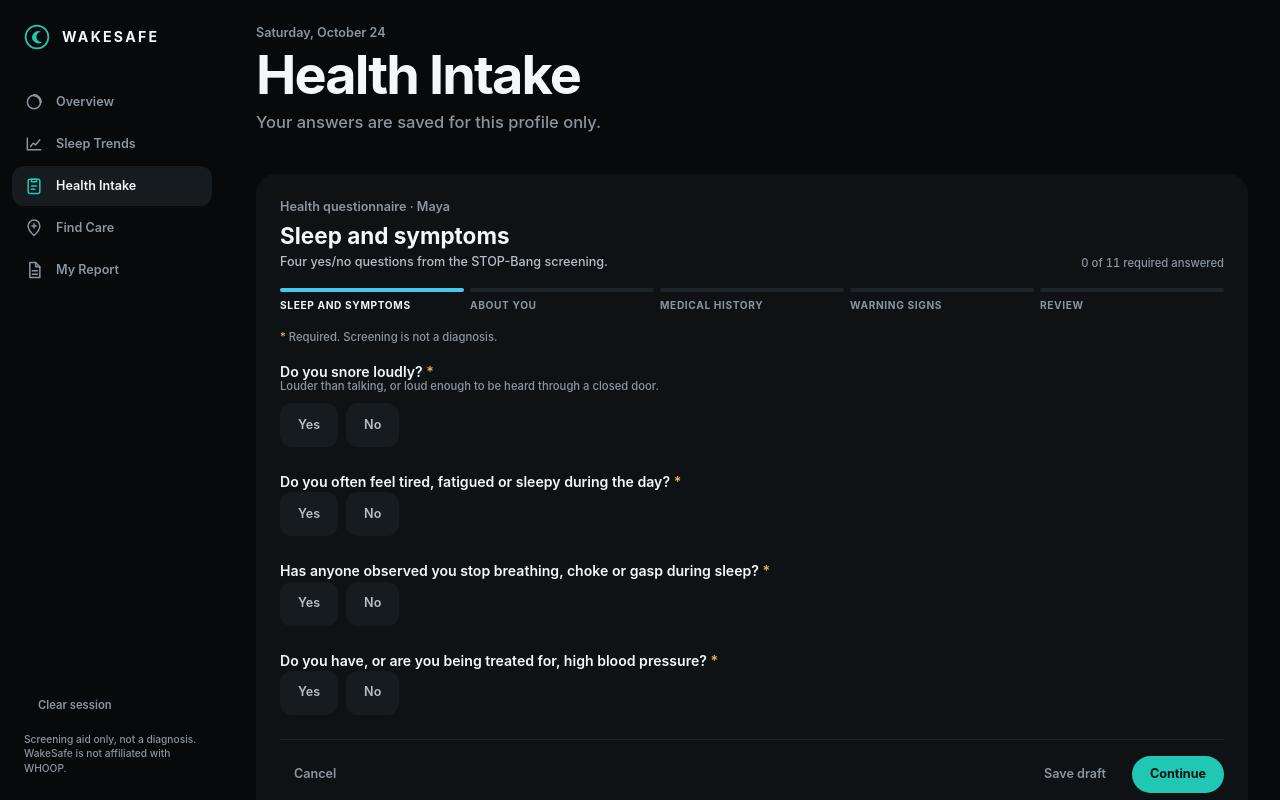
Scenario: questionnaire › shows a clear error when saving fails
This screenshot has width=1280, height=800.
Expected: the heading "Sleep and symptoms" is shown, [280,222,510,249]
Click the button "Save draft" at (1075, 774), box [1030,756,1120,793]
(page scrolled)
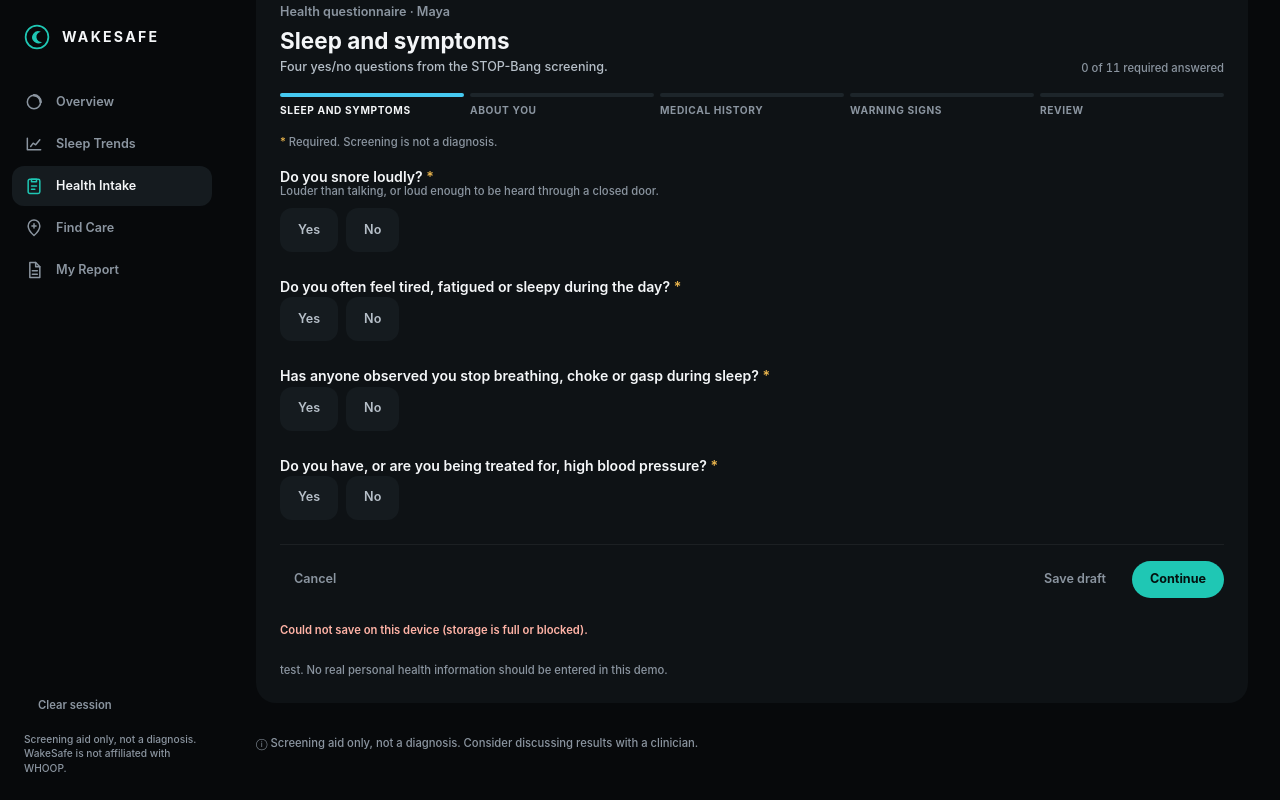
Expected: the text "Could not save on this device (storage is full or blocked)." is shown, [280,623,588,637]
